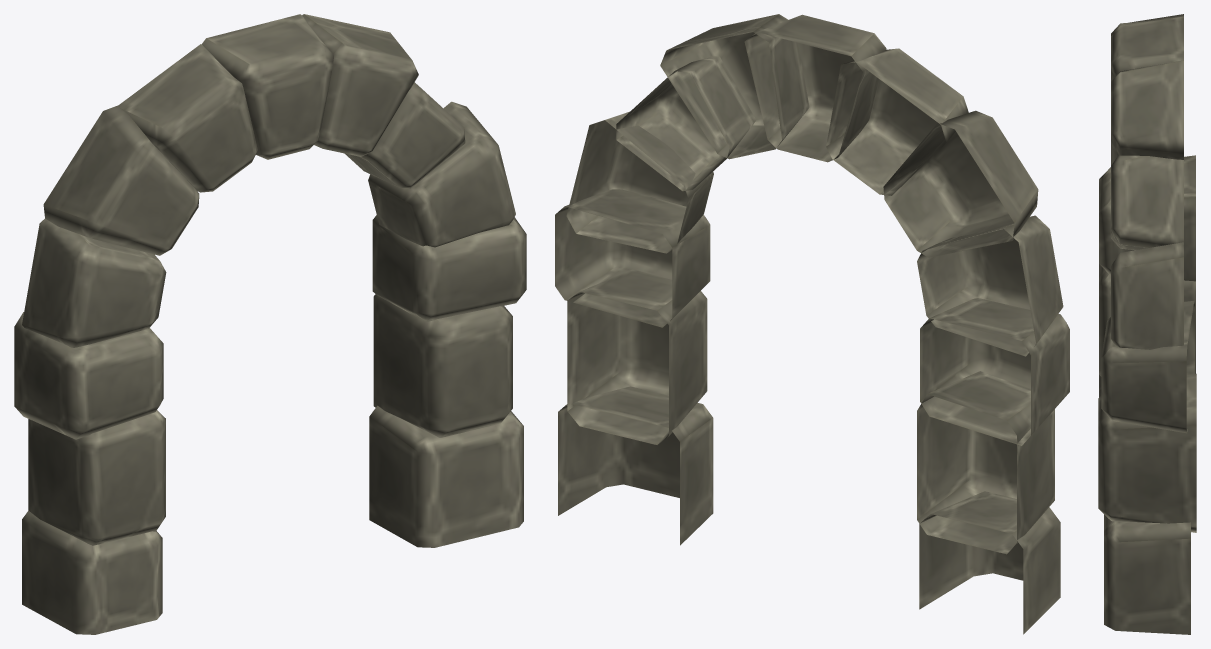
Rendered from dungeon_passage_1.FBX.
3 views of the same model, side by side, from view 1: azimuth 30°, elevation 25°; view 2: azimuth 150°, elevation 25°; view 3: azimuth 270°, elevation 25° (orthographic). The views are drawn at different scales.
Parts seen in each view (by area): view 1: Dungeon_passage_polySurface20; view 2: Dungeon_passage_polySurface20; view 3: Dungeon_passage_polySurface20.
Part boxes in pixels (<box>): Dungeon_passage_polySurface20: <box>14,14,526,634</box>; Dungeon_passage_polySurface20: <box>555,14,1069,634</box>; Dungeon_passage_polySurface20: <box>1098,14,1196,634</box>.
Size of the model in its own units: 65.7 by 69.36 by 12.6.
1 material, 1 textured.
